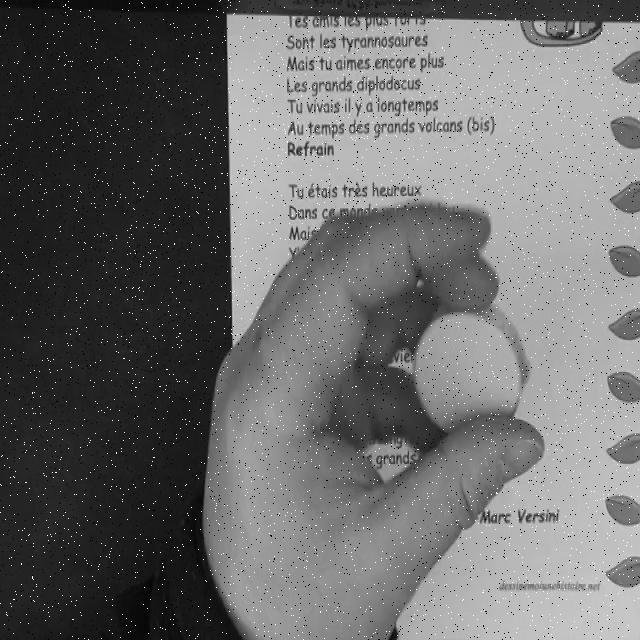round: (411, 297, 526, 439)
